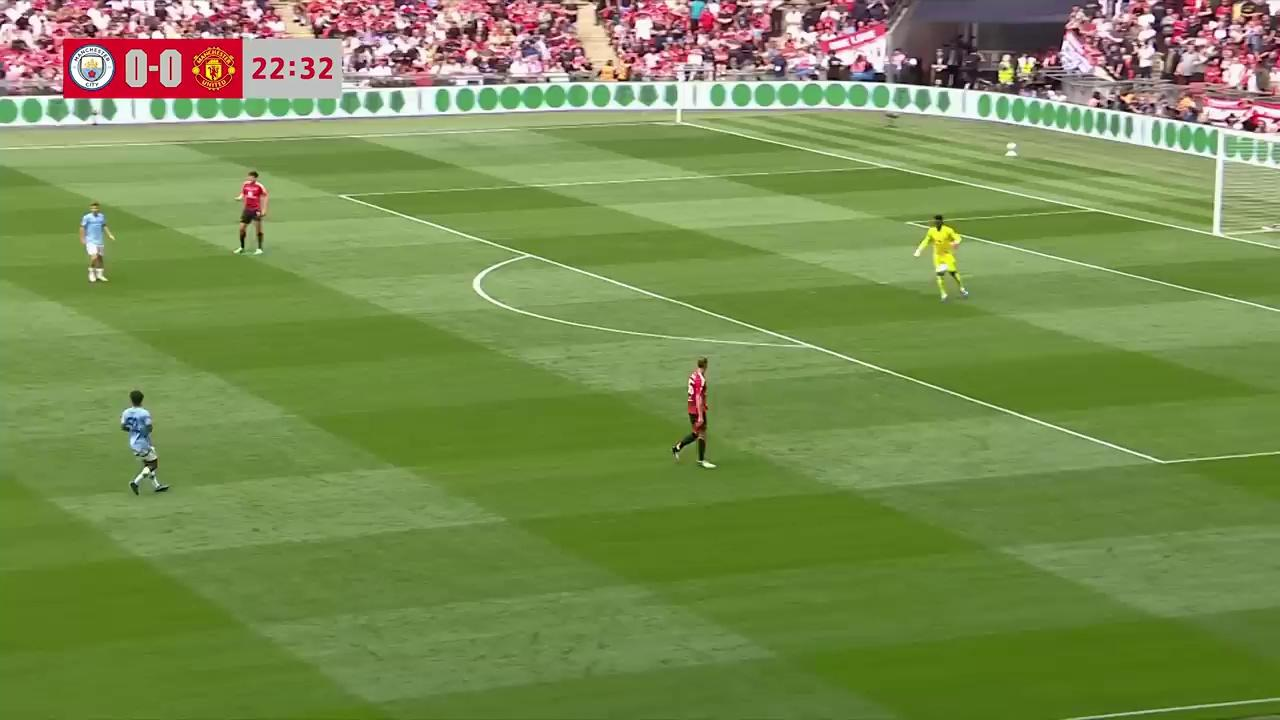ball: (935, 258, 950, 280)
player: (120, 389, 168, 495), (670, 358, 716, 468), (915, 214, 970, 301), (79, 201, 114, 284), (234, 170, 268, 255)
